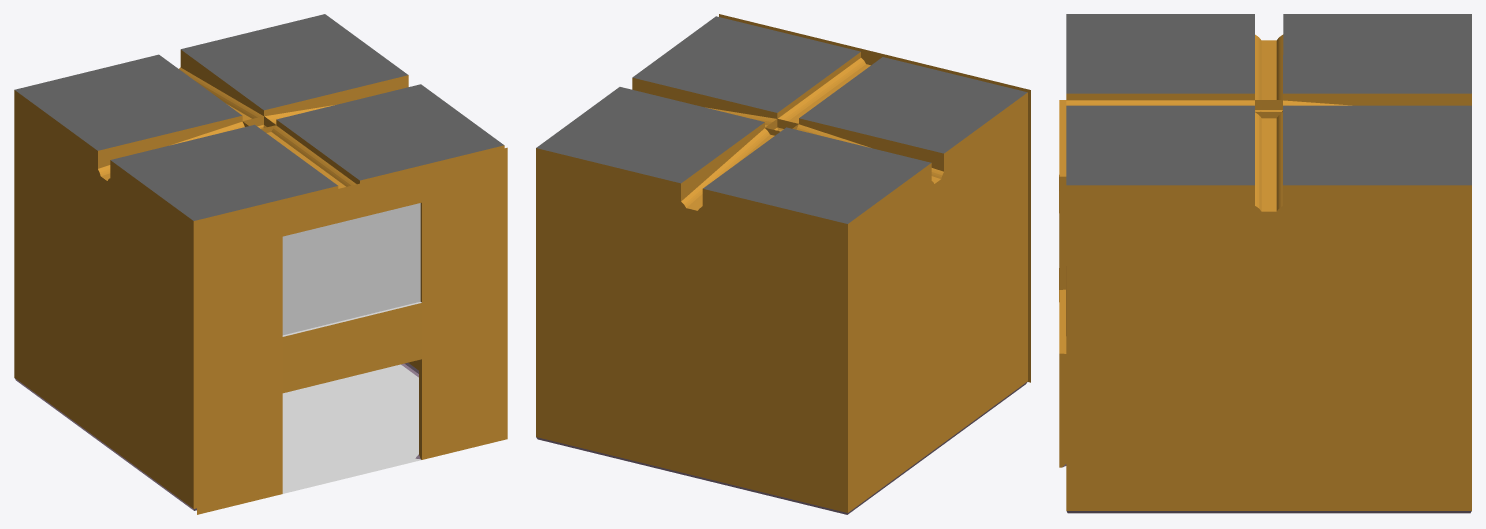
File: bigRoom3.fbx
3 views of the same model, side by side, from view 1: azimuth 30°, elevation 25°; view 2: azimuth 150°, elevation 25°; view 3: azimuth 270°, elevation 25° (orthographic). The views are drawn at different scales.
Parts seen in each view (by area): view 1: Plane; view 2: Plane; view 3: Plane.
Boxes of the visible parts, <box> form: Plane: <box>14,14,507,514</box>; Plane: <box>536,14,1030,514</box>; Plane: <box>1059,14,1471,513</box>.
Bounding box in the file's own units: 14.5 × 13 × 14.76.
